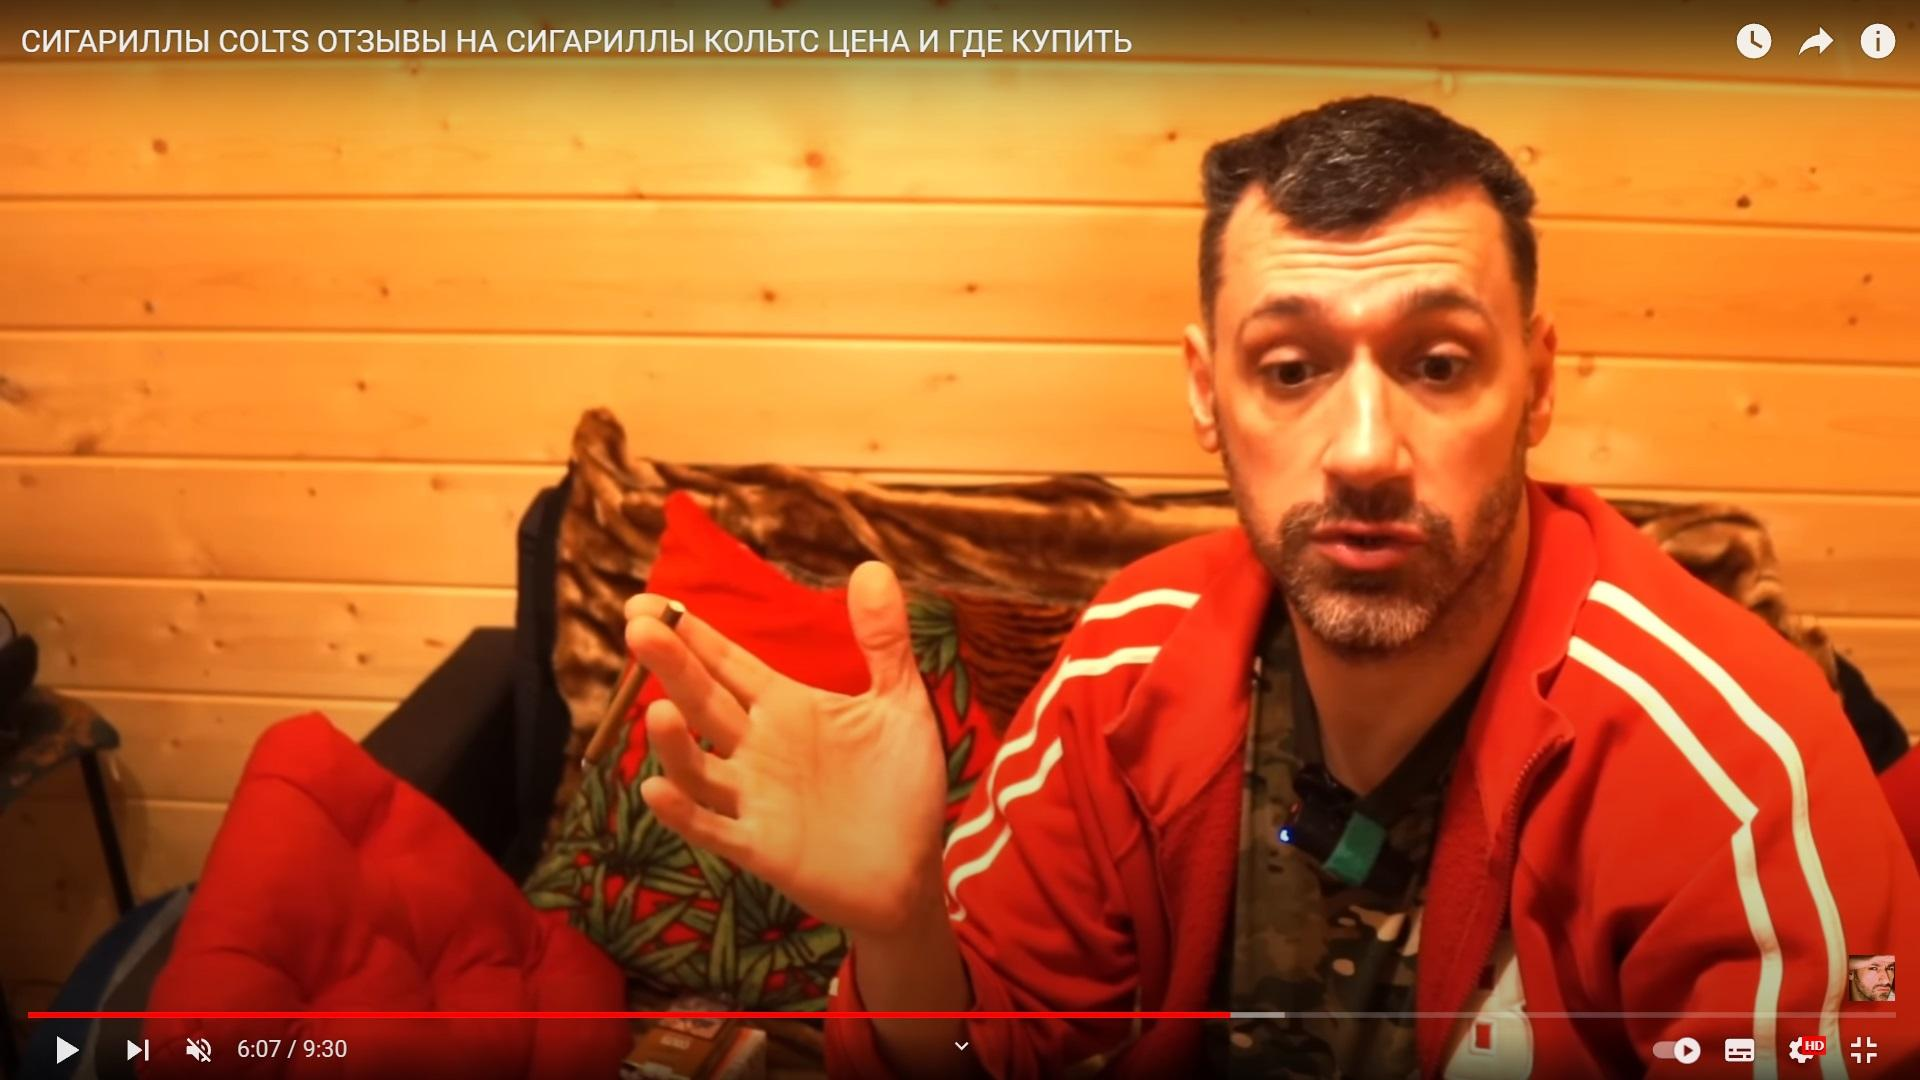cigarette: (580, 600, 686, 774)
